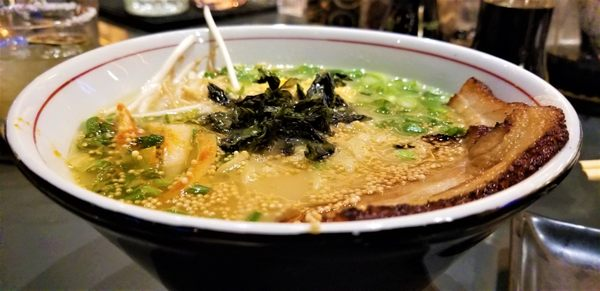pizza: (0, 1, 101, 58)
sushi: (4, 26, 589, 248)
